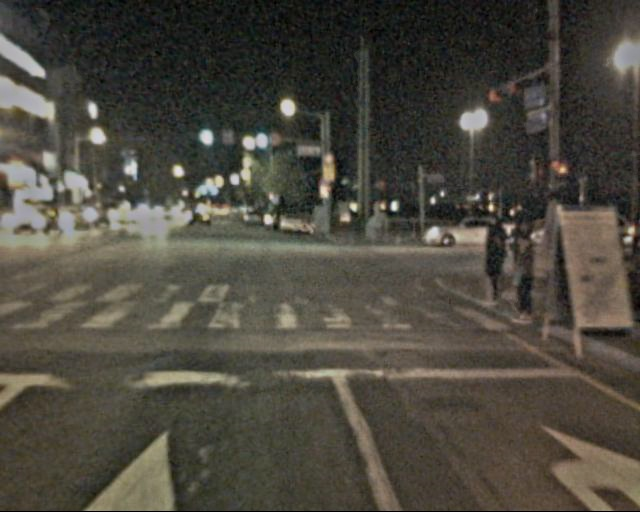person: (499, 226, 545, 323), (472, 221, 512, 310)
